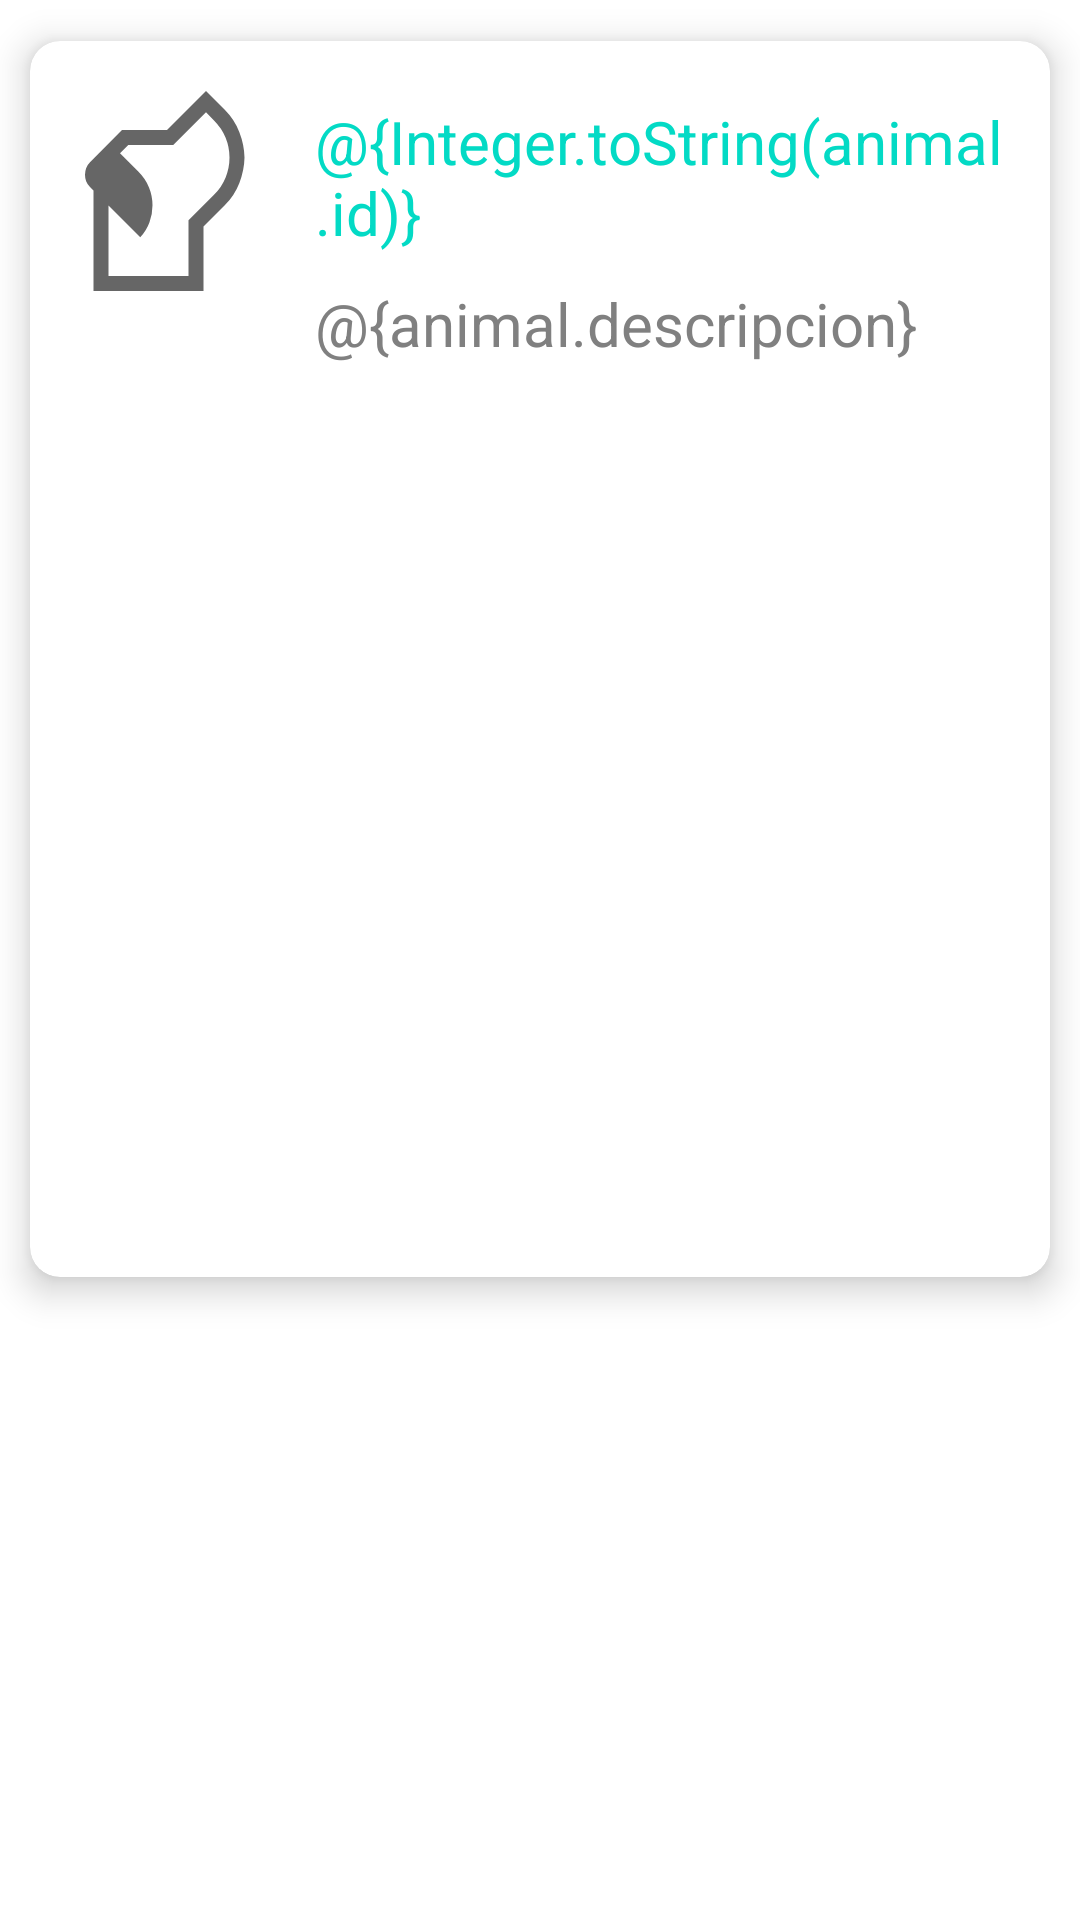

Named icons in this screenshot (1080px x 1920px) and their bounding boxes, [left=x1, top=y1, right=x2, bottom=y2]:
dog: [left=85, top=91, right=245, bottom=291]
